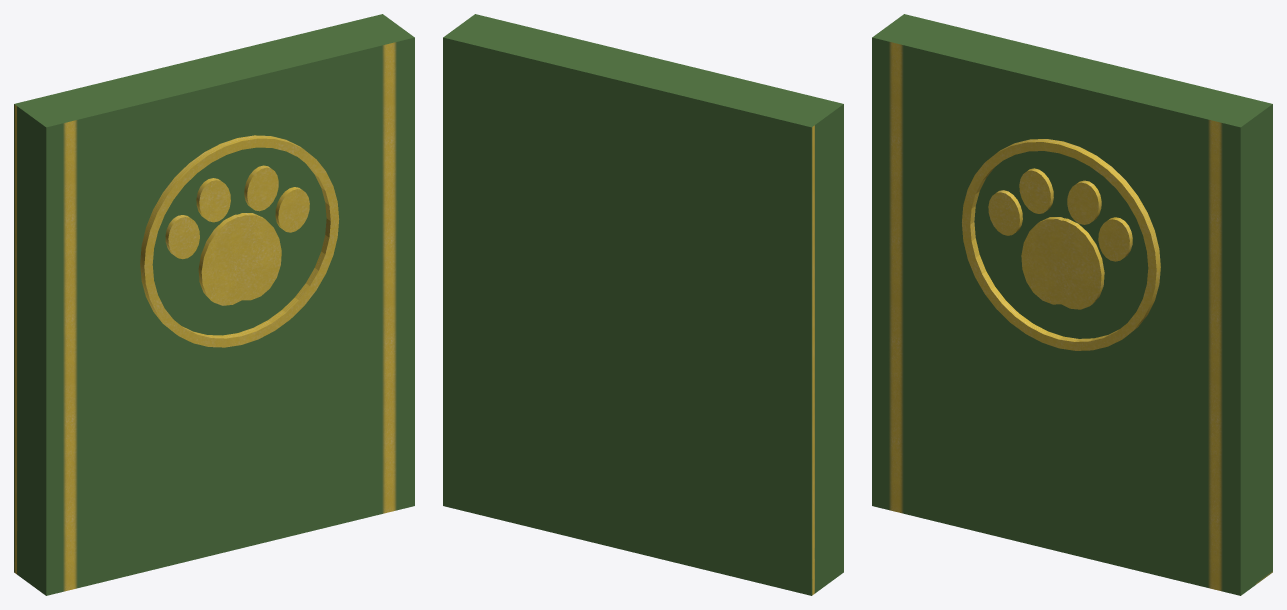
File: backwall.fbx
3 views of the same model, side by side, from view 1: azimuth 30°, elevation 25°; view 2: azimuth 150°, elevation 25°; view 3: azimuth 330°, elevation 25° (orthographic).
Parts seen in each view (by area): view 1: pCylinder8; view 2: pCylinder8; view 3: pCylinder8.
Boxes of the visible parts, x1,y1,x2,y2 form: pCylinder8: (14, 14, 414, 595); pCylinder8: (443, 14, 843, 595); pCylinder8: (872, 14, 1272, 595).
Bounding box in the file's own units: 5.3 × 6.44 × 0.9047.
